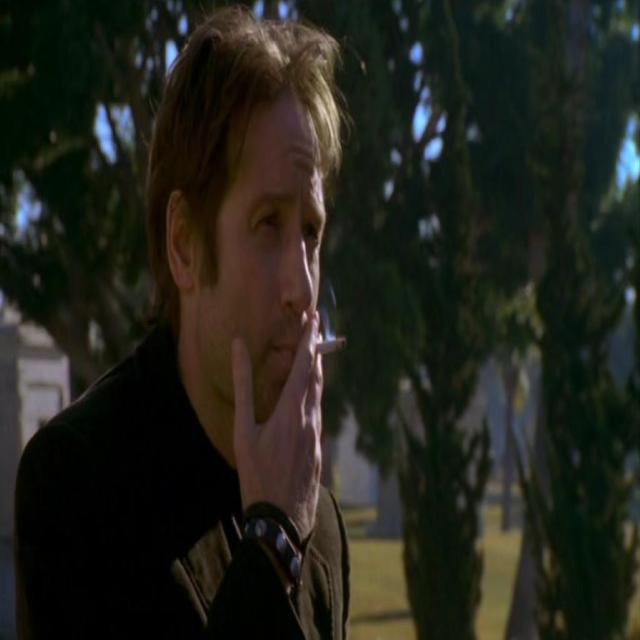smoking: (158, 22, 349, 504)
